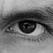eye: (19, 22, 36, 33)
